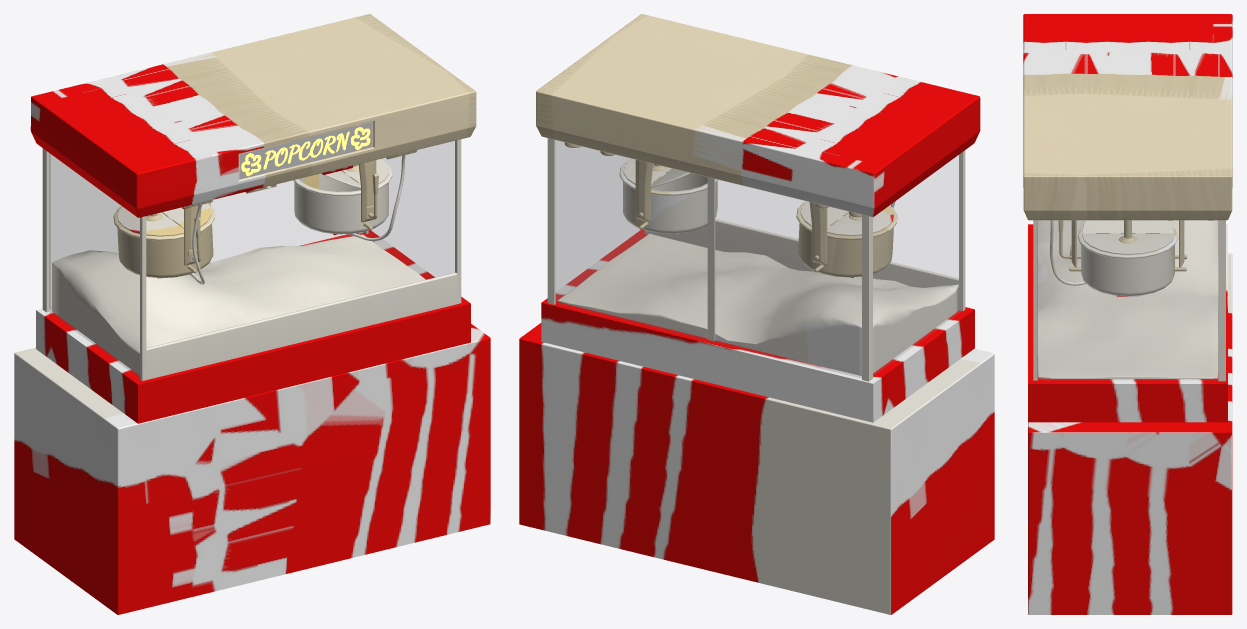
The picture shows the model from 3 angles, left to right: view 1: azimuth 30°, elevation 25°; view 2: azimuth 150°, elevation 25°; view 3: azimuth 270°, elevation 25°; orthographic projection.
Parts seen in each view (by area): view 1: PopcornMachine1; view 2: PopcornMachine1; view 3: PopcornMachine1.
Boxes of the visible parts, box(x1,y1,x2,y2) form: PopcornMachine1: box(14, 14, 490, 614); PopcornMachine1: box(519, 14, 994, 614); PopcornMachine1: box(1023, 14, 1232, 614).
Bounding box in the file's own units: 1.8 × 2.02 × 0.8867.
